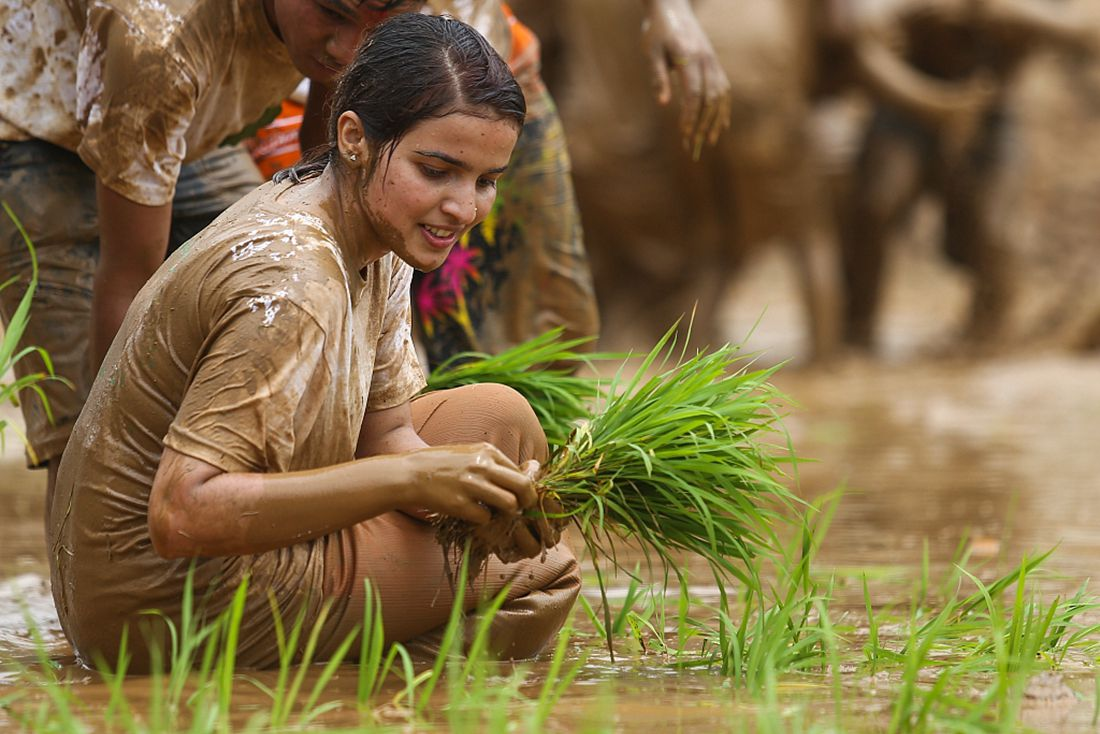human: (41, 11, 613, 668)
